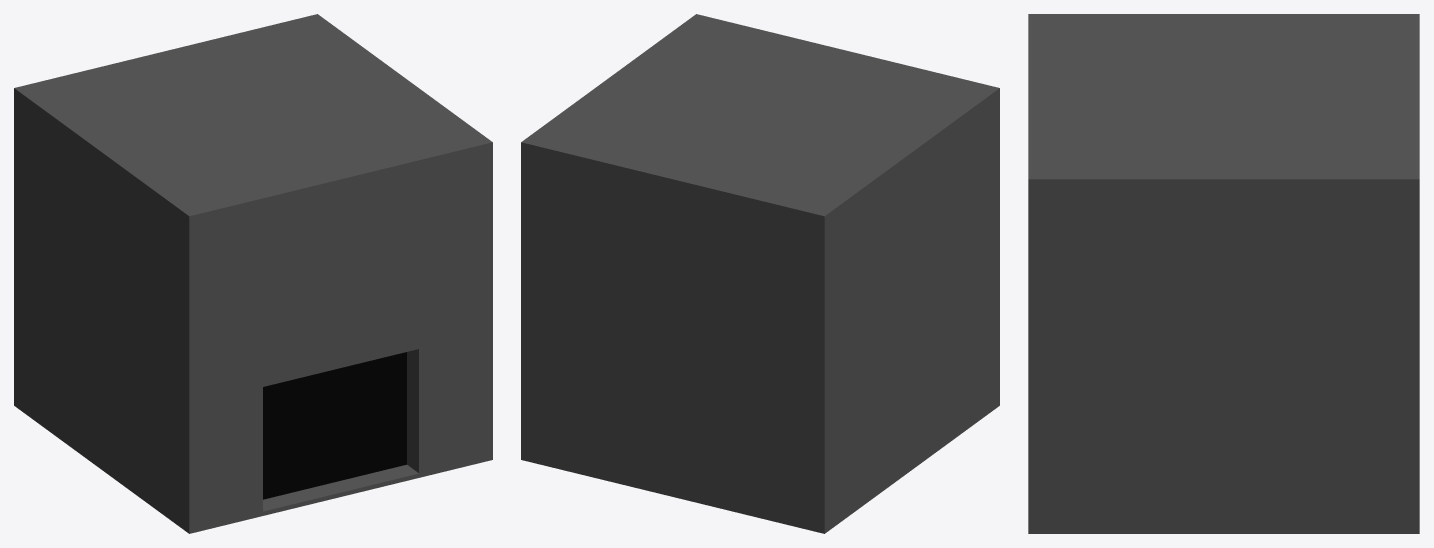
File: PetitBas.fbx
The picture shows the model from 3 angles, left to right: view 1: azimuth 30°, elevation 25°; view 2: azimuth 150°, elevation 25°; view 3: azimuth 270°, elevation 25°; orthographic projection. The views are drawn at different scales.
Visible parts, largest first — view 1: Cube.091; view 2: Cube.091; view 3: Cube.091.
Boxes of the visible parts, x1=… form: Cube.091: x1=14, y1=14, x2=492, y2=533; Cube.091: x1=521, y1=14, x2=999, y2=533; Cube.091: x1=1028, y1=14, x2=1419, y2=533.
Size of the model in its own units: 2000 by 2000 by 2000.
